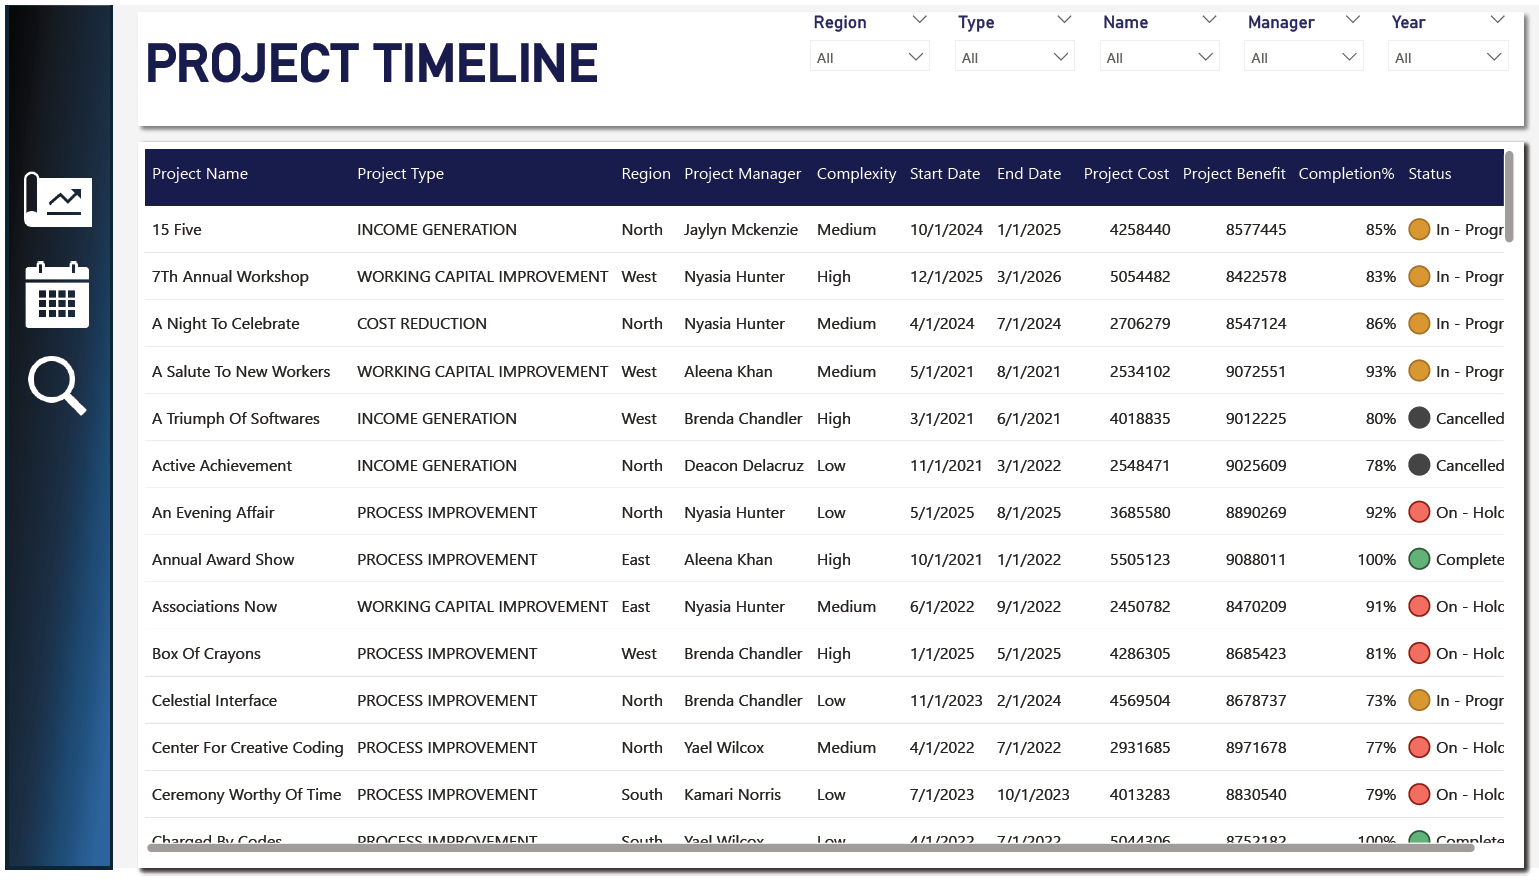

The page's visual inventory and layout, read from the dashboard file:
{"tool":"powerbi","page":{"name":"Details","canvas":[1280,720],"ordinal":2},"visuals":[{"type":"tableEx","fields":{"Values":["Data.Project Name","Data.Project Type","Data.Region","Data.Project Manager","Data.Complexity","Data.Start Date","Data.End Date","Data. Project Cost ","Data. Project Benefit ","Data.Completion%","Data.Status"]},"box":[109.6,114,1145.6,593],"z":1},{"type":"textbox","box":[109.6,17.3,398.2,83.7],"z":2},{"type":"slicer","fields":{"Values":["Date Table.Year"]},"box":[1135.5,0,119.7,101],"z":4},{"type":"slicer","fields":{"Values":["Data.Project Manager"]},"box":[1015.7,0,119.7,101],"z":5},{"type":"slicer","fields":{"Values":["Data.Project Name"]},"box":[896,0,119.7,101],"z":6},{"type":"slicer","fields":{"Values":["Data.Project Type"]},"box":[776.2,0,119.7,101],"z":7},{"type":"slicer","fields":{"Values":["Data.Region"]},"box":[656.5,0,119.7,101],"z":8},{"type":"image","box":[10.1,125.5,66.4,73.6],"z":9},{"type":"image","box":[8.7,199.1,67.8,82.2],"z":10},{"type":"image","box":[8.7,275.6,67.8,79.4],"z":11}]}

Visuals, with their boxes on the page's 1280x720 design canvas (x1, y1, x2, y2). These are canvas units, not pixel positions in the 1539x882 screenshot, which may show the page scaled, cropped or inside an application window:
tableEx - Data.Project Name x Data.Project Type: {"x1": 110, "y1": 114, "x2": 1255, "y2": 707}
textbox: {"x1": 110, "y1": 17, "x2": 508, "y2": 101}
slicer - Date Table.Year: {"x1": 1136, "y1": 0, "x2": 1255, "y2": 101}
slicer - Data.Project Manager: {"x1": 1016, "y1": 0, "x2": 1135, "y2": 101}
slicer - Data.Project Name: {"x1": 896, "y1": 0, "x2": 1016, "y2": 101}
slicer - Data.Project Type: {"x1": 776, "y1": 0, "x2": 896, "y2": 101}
slicer - Data.Region: {"x1": 656, "y1": 0, "x2": 776, "y2": 101}
image: {"x1": 10, "y1": 126, "x2": 76, "y2": 199}
image: {"x1": 9, "y1": 199, "x2": 76, "y2": 281}
image: {"x1": 9, "y1": 276, "x2": 76, "y2": 355}
